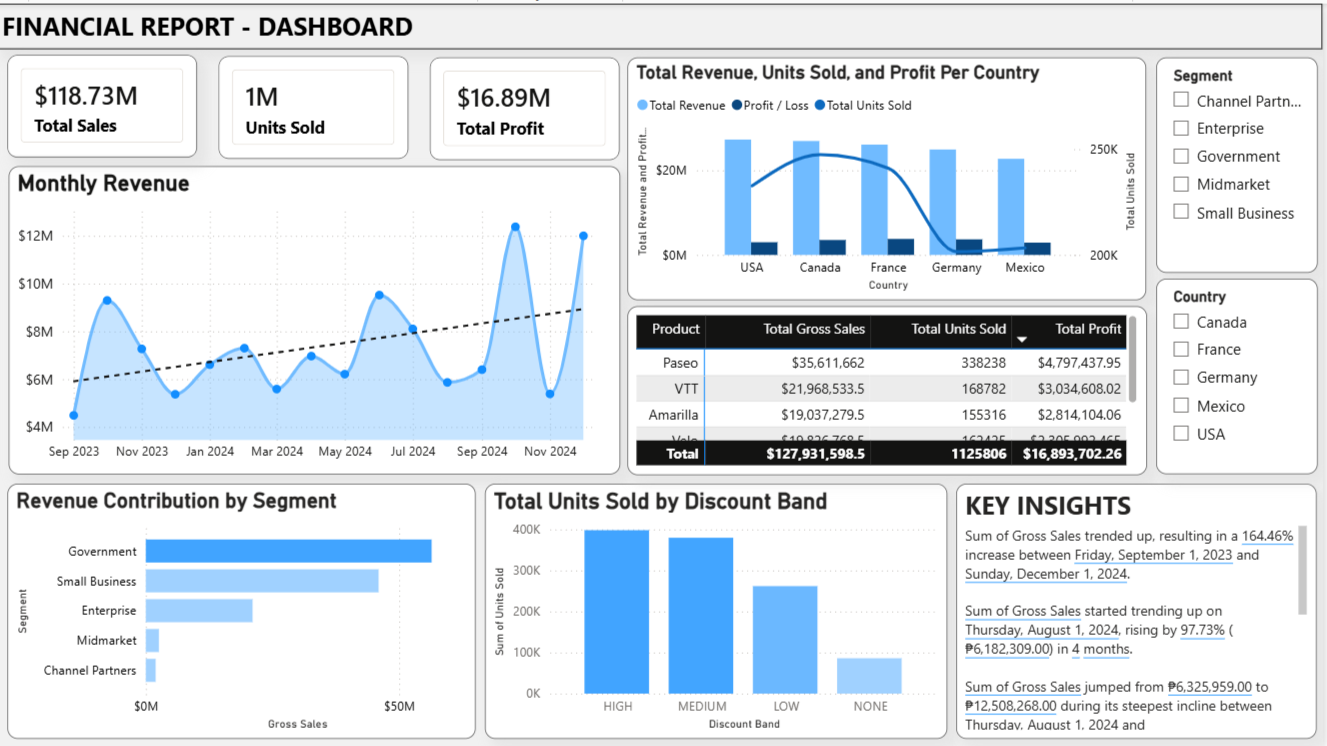

Layout of this report page (visuals, bound fields, positions):
{"tool":"powerbi","page":{"name":"Page 1","canvas":[1280,720],"ordinal":0},"visuals":[{"type":"textbox","box":[0,0,1280.3,43.9],"z":0},{"type":"lineChart","title":"Monthly Revenue","fields":{"Category":["financials.Date"],"Y":["Sum(financials. Sales)"]},"box":[12.5,156.7,590,297.5],"z":1000},{"type":"clusteredBarChart","title":"Revenue Contribution  by Segment","fields":{"Category":["financials.Segment"],"Y":["Sum(financials.Gross Sales)"]},"box":[11.1,463.3,452.2,246.7],"z":2000},{"type":"clusteredColumnChart","title":"Total Units Sold by Discount Band","fields":{"Category":["financials.Discount Band"],"Y":["Sum(financials.Units Sold)"]},"box":[472.2,463.3,446.7,246.7],"z":3000},{"type":"lineClusteredColumnComboChart","title":"Total Revenue, Units Sold, and Profit Per Country","fields":{"Category":["financials.Country"],"Y":["Sum(financials.Gross Sales)","Sum(financials.Profit)"],"Y2":["Sum(financials.Units Sold)"]},"box":[609.3,52,500.7,234.7],"z":4000},{"type":"pivotTable","fields":{"Rows":["financials.Product"],"Values":["Sum(financials.Gross Sales)","Sum(financials.Units Sold)","Sum(financials.Profit)"]},"box":[608.7,292,501.4,162.9],"z":5000},{"type":"textbox","title":"KEY INSIGHTS","box":[926.7,463.3,347.8,246.7],"z":6000},{"type":"slicer","fields":{"Values":["financials.Segment"]},"box":[1119,52,156,208],"z":7000},{"type":"slicer","fields":{"Values":["financials.Country"]},"box":[1119.2,265.8,155.8,189.2],"z":8000},{"type":"cardVisual","fields":{"Data":["Sum(financials. Sales)"]},"box":[11.1,50,183.3,98.9],"z":9000},{"type":"cardVisual","fields":{"Data":["Sum(financials.Units Sold)"]},"box":[215,50.3,183.1,99.2],"z":10000},{"type":"cardVisual","fields":{"Data":["Sum(financials.Profit)"]},"box":[419.1,51.8,183.1,99.2],"z":11000}]}

Visuals, with their boxes in screenshot pixels (x1, y1, x2, y2), scaled from the page's 1280x720 canvas onto the 1327x746 screenshot:
textbox: {"x1": 0, "y1": 0, "x2": 1326, "y2": 45}
"Monthly Revenue" lineChart: {"x1": 13, "y1": 162, "x2": 625, "y2": 471}
"Revenue Contribution  by Segment" clusteredBarChart: {"x1": 12, "y1": 480, "x2": 480, "y2": 736}
"Total Units Sold by Discount Band" clusteredColumnChart: {"x1": 490, "y1": 480, "x2": 953, "y2": 736}
"Total Revenue, Units Sold, and Profit Per Country" lineClusteredColumnComboChart: {"x1": 632, "y1": 54, "x2": 1151, "y2": 297}
pivotTable - financials.Product x Sum(financials.Gross Sales): {"x1": 631, "y1": 303, "x2": 1151, "y2": 471}
"KEY INSIGHTS" textbox: {"x1": 961, "y1": 480, "x2": 1321, "y2": 736}
slicer - financials.Segment: {"x1": 1160, "y1": 54, "x2": 1322, "y2": 269}
slicer - financials.Country: {"x1": 1160, "y1": 275, "x2": 1322, "y2": 471}
cardVisual - Sum(financials. Sales): {"x1": 12, "y1": 52, "x2": 202, "y2": 154}
cardVisual - Sum(financials.Units Sold): {"x1": 223, "y1": 52, "x2": 413, "y2": 155}
cardVisual - Sum(financials.Profit): {"x1": 434, "y1": 54, "x2": 624, "y2": 156}
